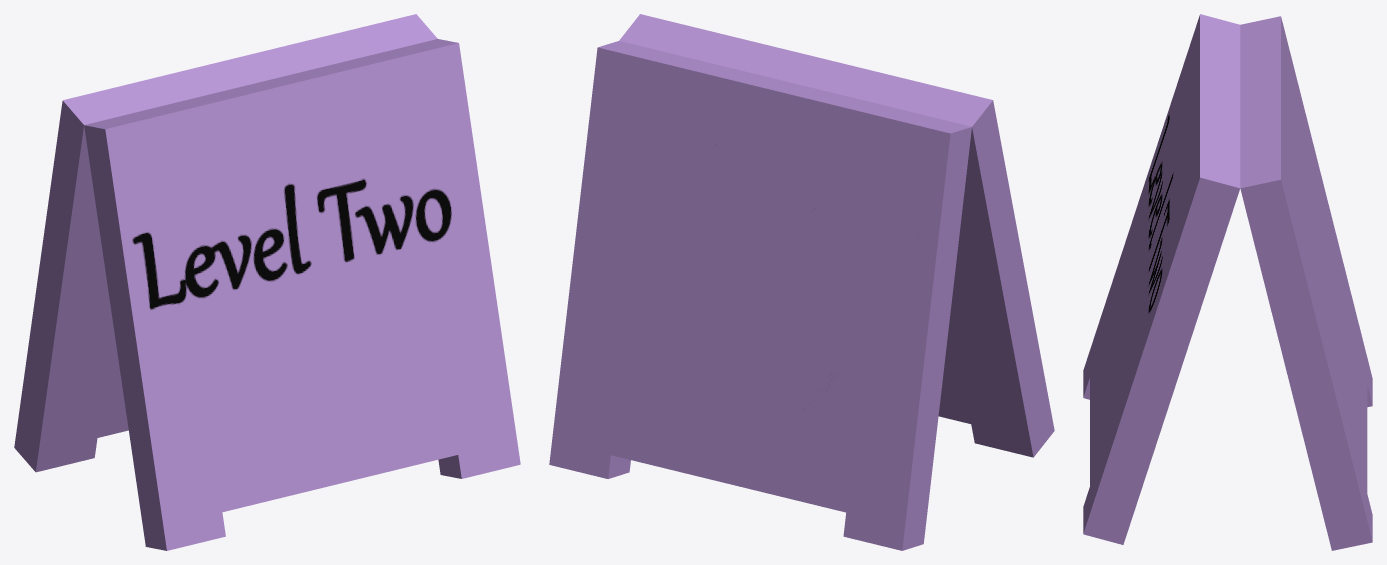
Rendered from ENV_sign_lvl2.fbx.
The picture shows the model from 3 angles, left to right: view 1: azimuth 30°, elevation 25°; view 2: azimuth 150°, elevation 25°; view 3: azimuth 270°, elevation 25°; orthographic projection. The views are drawn at different scales.
Parts seen in each view (by area): view 1: pCube3; view 2: pCube3; view 3: pCube3.
Part boxes in pixels (x1,y1,x2,y2): pCube3: (14, 14, 520, 550); pCube3: (549, 14, 1054, 550); pCube3: (1083, 14, 1372, 550).
Size of the model in its own units: 0.8939 by 0.9516 by 0.6686.
